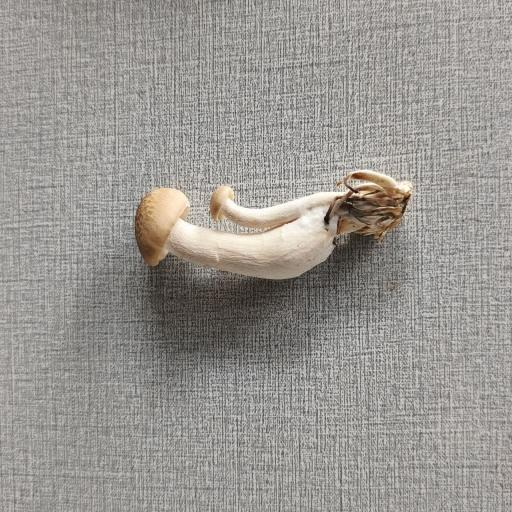Enoki Mushroom: (125, 161, 420, 277)
